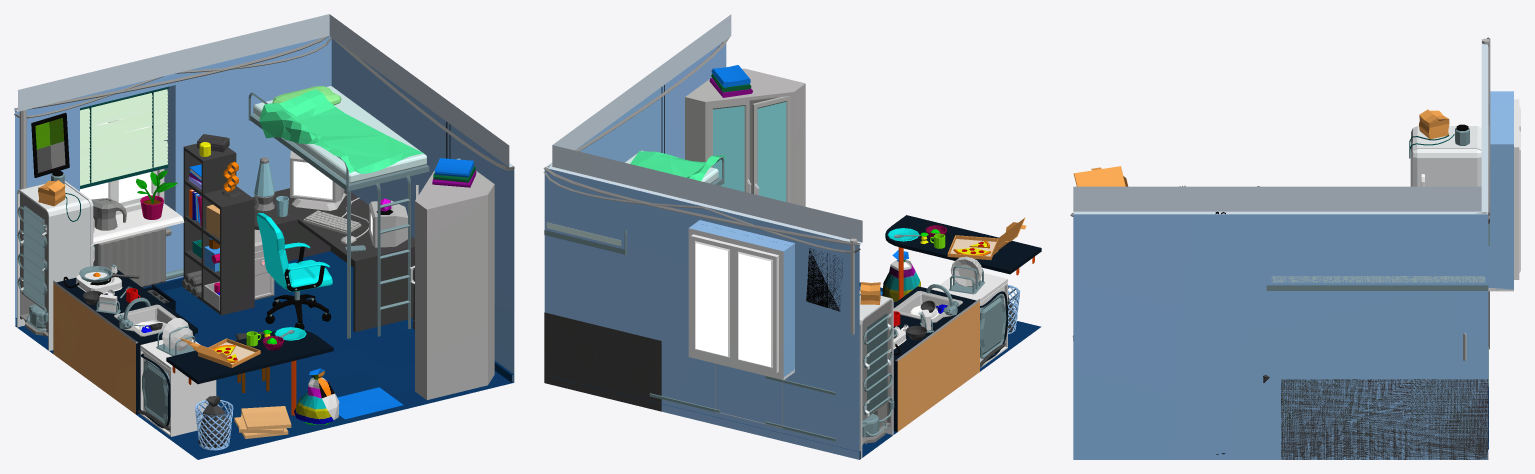
The model's file is lowpoly_room-transformed.glb.
The picture shows the model from 3 angles, left to right: view 1: azimuth 30°, elevation 25°; view 2: azimuth 150°, elevation 25°; view 3: azimuth 270°, elevation 25°; orthographic projection. The views are drawn at different scales.
Parts seen in each view (by area): view 1: Box010.001_Color_0, Box010.001_mirror_0, Box010.001_emission_window_0; view 2: Box010.001_Color_0, Box010.001_mirror_0, Box010.001_emission_window_0; view 3: Box010.001_Color_0, Box010.001_mirror_0.
Part boxes in pixels (x1,y1,x2,y2): Box010.001_Color_0: [14, 14, 514, 459]; Box010.001_mirror_0: [17, 92, 429, 424]; Box010.001_emission_window_0: [80, 118, 372, 235]; Box010.001_Color_0: [543, 14, 1041, 459]; Box010.001_mirror_0: [544, 102, 1006, 458]; Box010.001_emission_window_0: [695, 243, 770, 367]; Box010.001_Color_0: [1070, 37, 1520, 459]; Box010.001_mirror_0: [1257, 126, 1489, 386].
Bounding box in the file's own units: 1421 × 1024 × 1520.
4 materials, 4 textured.
